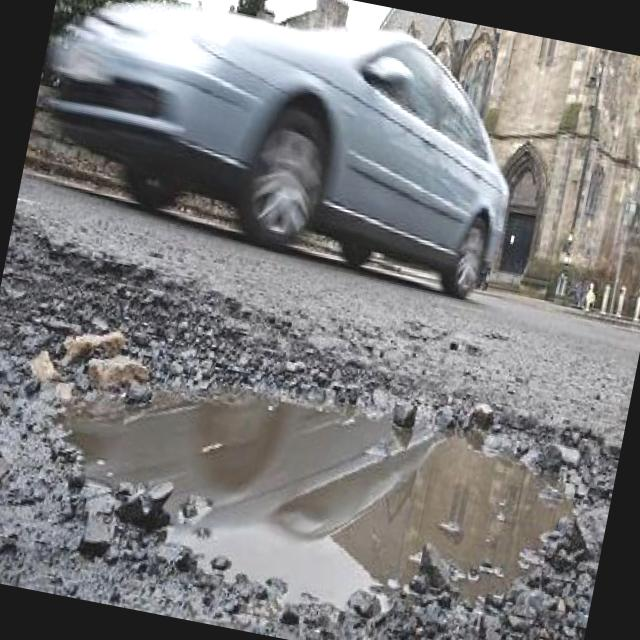Lubang: (72, 377, 621, 640)
